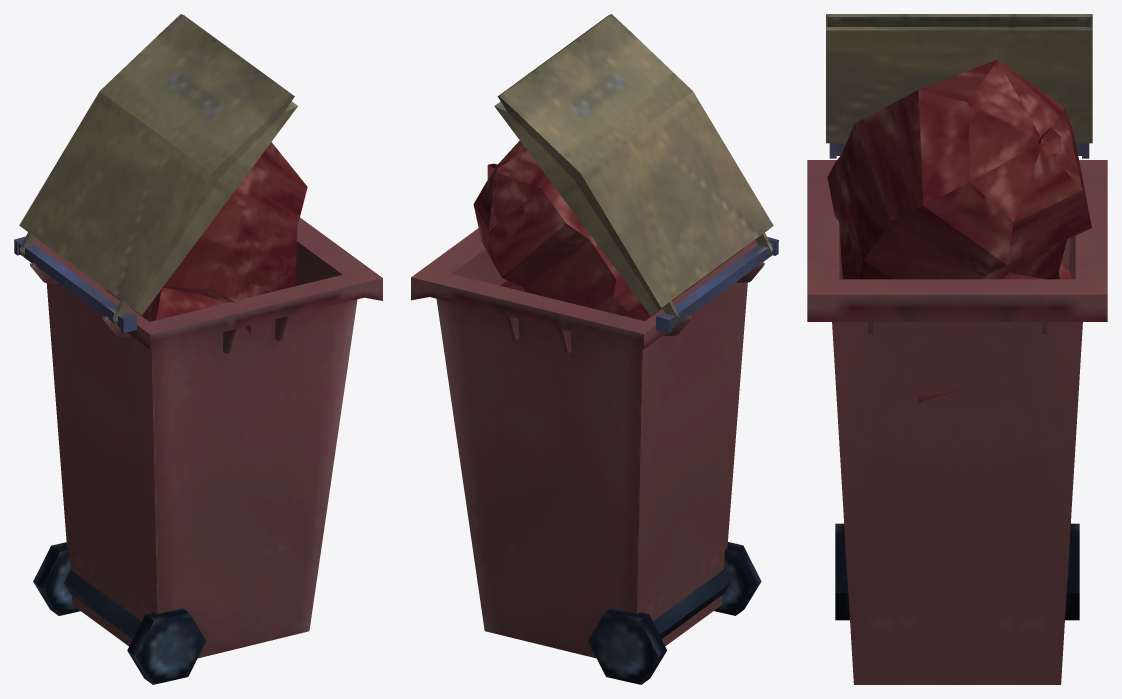
The model's file is Urban_TrashCanAlt2Overflowing_Model.fbx.
3 renders of one model, left to right at view 1: azimuth 30°, elevation 25°; view 2: azimuth 150°, elevation 25°; view 3: azimuth 270°, elevation 25°, orthographic. The views are drawn at different scales.
Parts seen in each view (by area): view 1: Urban_TrashCanAlt2Overflowing_Mesh; view 2: Urban_TrashCanAlt2Overflowing_Mesh; view 3: Urban_TrashCanAlt2Overflowing_Mesh.
Boxes of the visible parts, left/top/right/bottom form: Urban_TrashCanAlt2Overflowing_Mesh: left=14, top=14, right=382, bottom=684; Urban_TrashCanAlt2Overflowing_Mesh: left=411, top=14, right=778, bottom=684; Urban_TrashCanAlt2Overflowing_Mesh: left=807, top=14, right=1107, bottom=684.
Bounding box in the file's own units: 0.9 × 1.9 × 0.7794.
